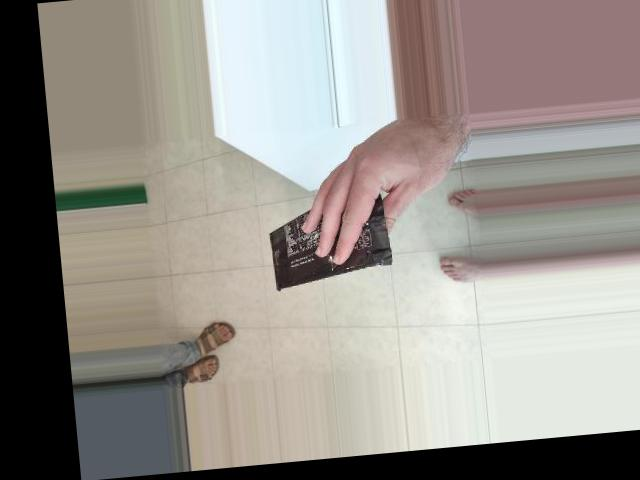chocolate: (260, 174, 417, 291)
